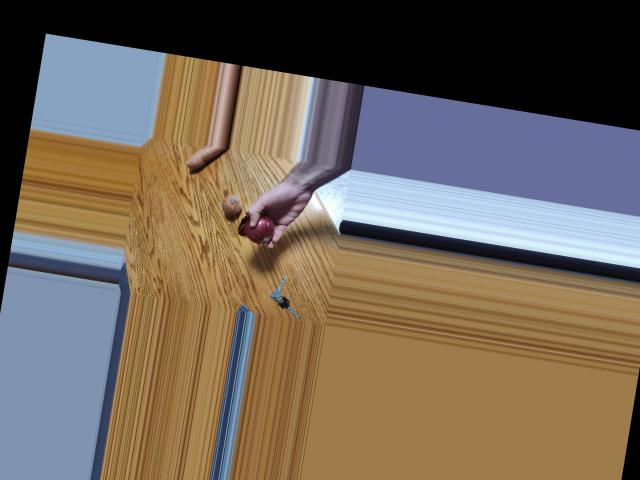onion: (242, 214, 277, 245)
